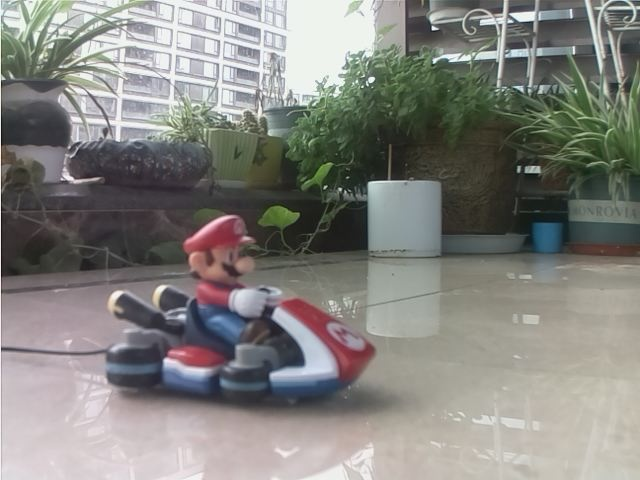mario: (103, 209, 383, 414)
